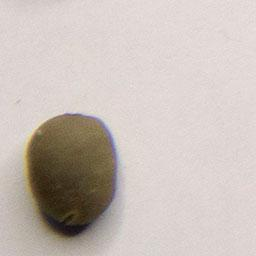peaberry: (22, 107, 122, 235)
